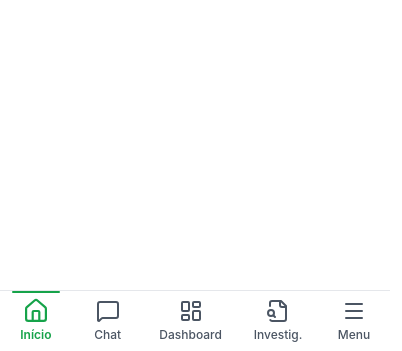
Test: MobileNavV2 › Menu Content › closes menu when link clicked
Click the button with aria-label "menu do usuário".
click(354, 321)  # box [322,291,386,350]
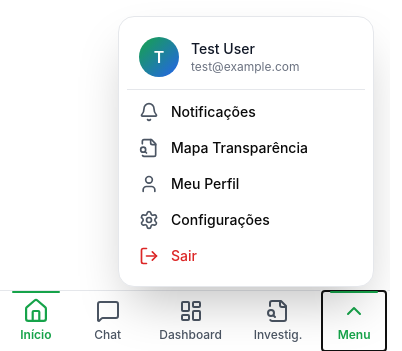
Click the link "Meu Perfil".
click(189, 184)  # box [139,174,239,194]
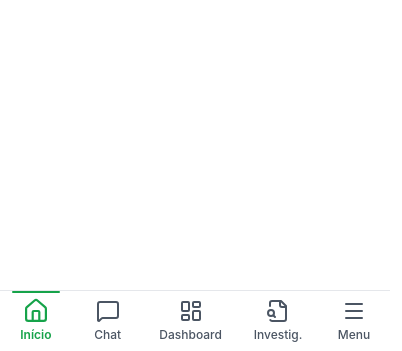
Expected: the link "Configurações" is gone
